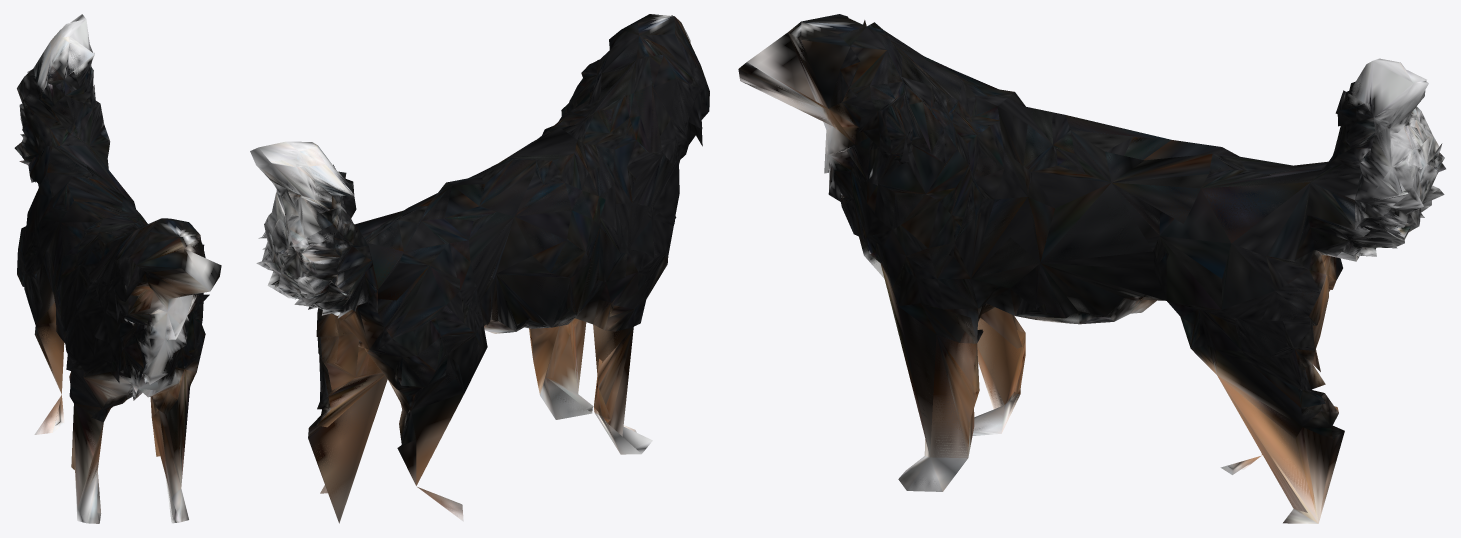
File: hund_berner.glb
3 views of the same model, side by side, from view 1: azimuth 30°, elevation 25°; view 2: azimuth 150°, elevation 25°; view 3: azimuth 270°, elevation 25° (orthographic). The views are drawn at different scales.
Size of the model in its own units: 0.789 by 1.39 by 1.9.
1 material, 1 textured.
